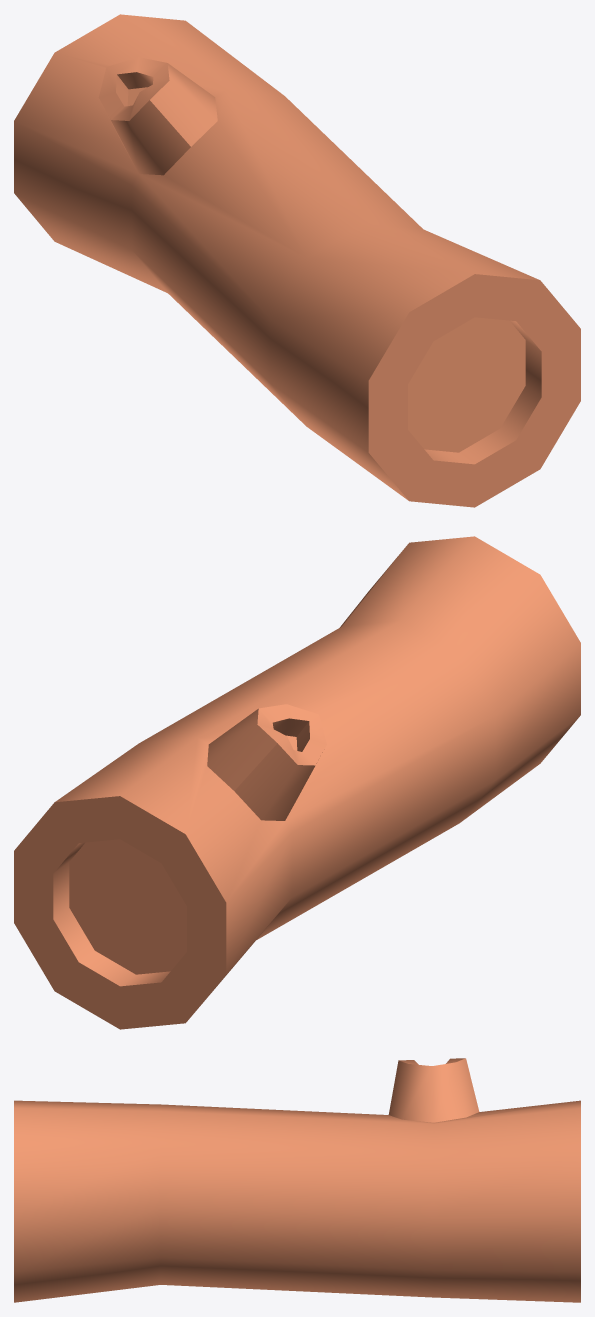
The model's file is Log_B.fbx.
3 renders of one model, top to bottom at view 1: azimuth 30°, elevation 25°; view 2: azimuth 150°, elevation 25°; view 3: azimuth 270°, elevation 25°, orthographic. The views are drawn at different scales.
Parts seen in each view (by area): view 1: Log_B; view 2: Log_B; view 3: Log_B.
Boxes of the visible parts, x1=… form: Log_B: x1=14, y1=14, x2=580, y2=507; Log_B: x1=14, y1=536, x2=580, y2=1029; Log_B: x1=14, y1=1058, x2=580, y2=1302.
Size of the model in its own units: 72.27 by 82.17 by 200.
